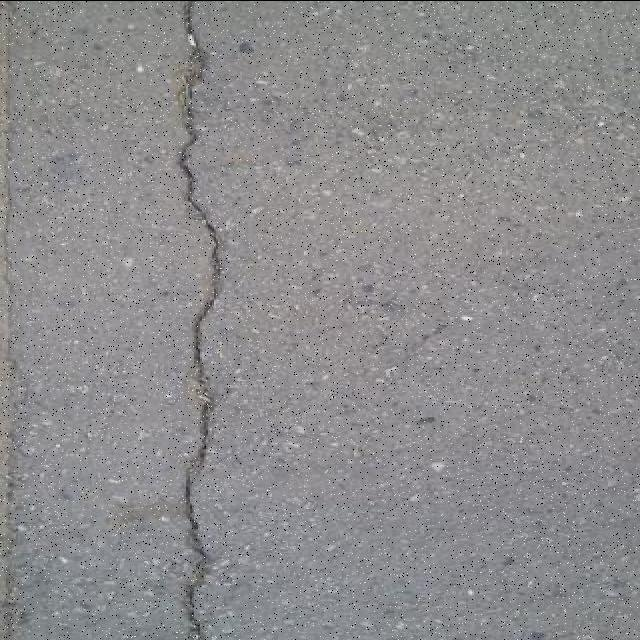crack: (176, 2, 221, 637)
